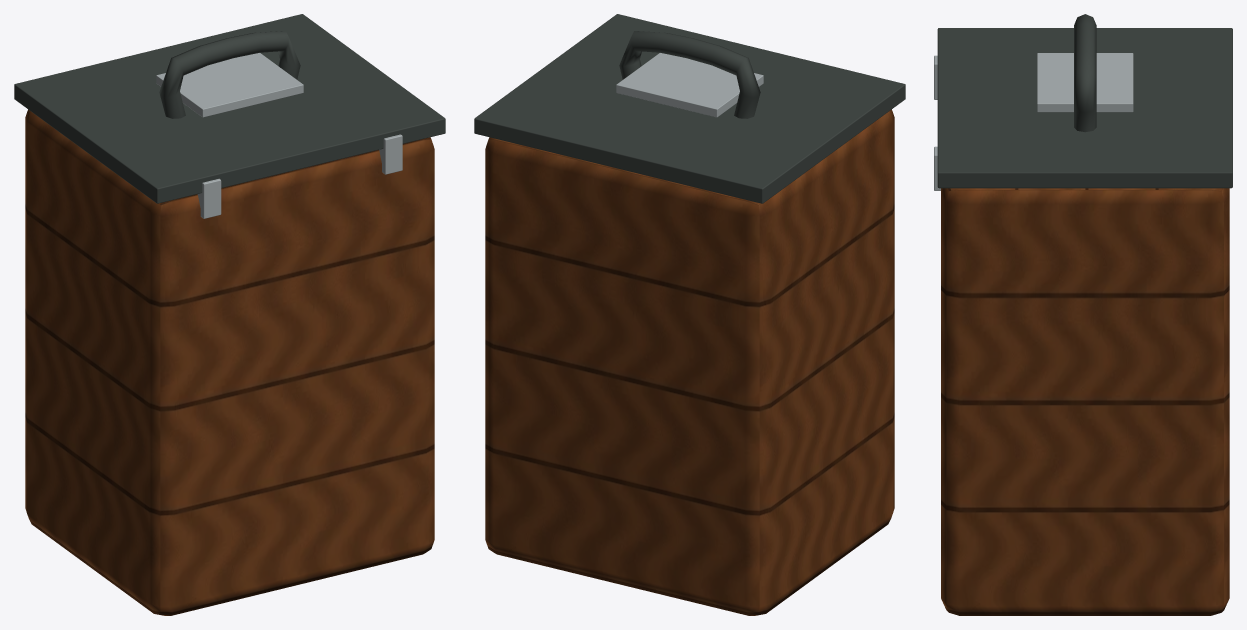
The model's file is survival-food-and-preservation-flour-bin-8dc9b4d1__21801.glb.
3 renders of one model, left to right at view 1: azimuth 30°, elevation 25°; view 2: azimuth 150°, elevation 25°; view 3: azimuth 270°, elevation 25°, orthographic. The views are drawn at different scales.
Visible parts, largest first — view 1: flour-bin, lid/dark; view 2: flour-bin, lid/dark; view 3: flour-bin, lid/dark.
Part boxes in pixels (bbox=[...]): flour-bin: bbox=[25, 31, 434, 615]; lid/dark: bbox=[14, 14, 445, 203]; flour-bin: bbox=[485, 31, 894, 615]; lid/dark: bbox=[474, 14, 905, 203]; flour-bin: bbox=[934, 14, 1229, 615]; lid/dark: bbox=[937, 28, 1232, 188].
Bounding box in the file's own units: 0.428 × 0.7108 × 0.3725.
Materials: 3 (1 with a texture image).
